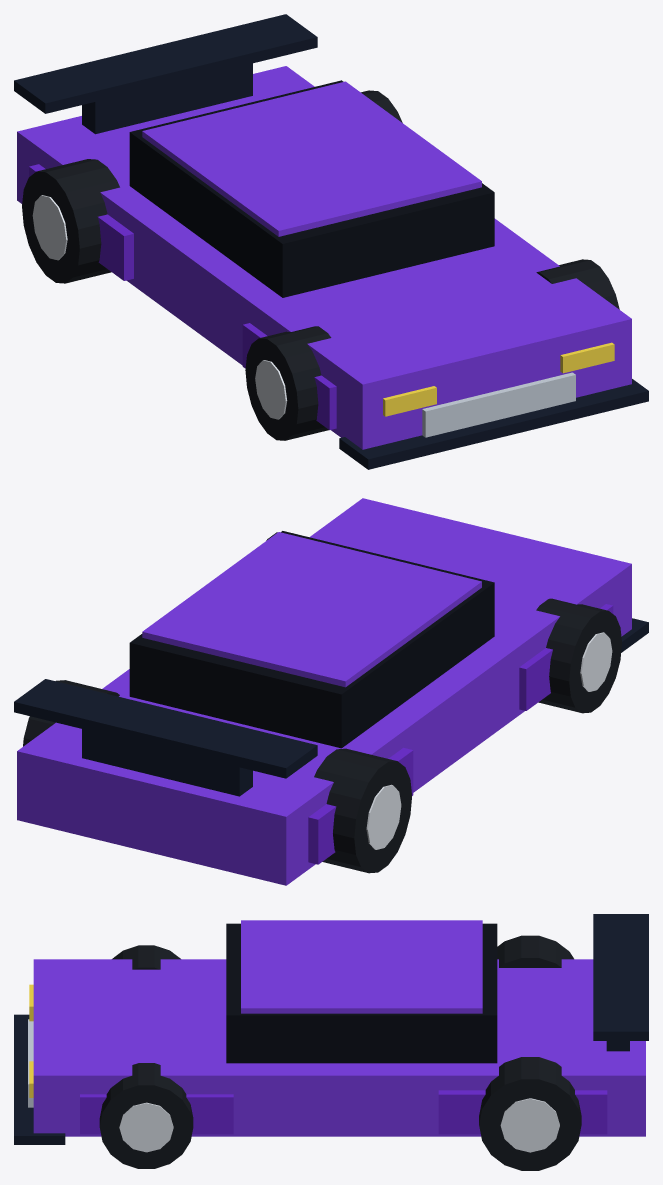
File: tokyo-gt-turbo.glb
The picture shows the model from 3 angles, top to bottom: view 1: azimuth 30°, elevation 25°; view 2: azimuth 150°, elevation 25°; view 3: azimuth 270°, elevation 25°; orthographic projection. The views are drawn at different scales.
Parts seen in each view (by area): view 1: RaceCar; view 2: RaceCar; view 3: RaceCar.
Part boxes in pixels (box(x1,y1,x2,y2)): RaceCar: box(14, 14, 648, 469); RaceCar: box(14, 498, 648, 885); RaceCar: box(14, 914, 648, 1170).
Bounding box in the file's own units: 2.34 × 1.02 × 4.33.
